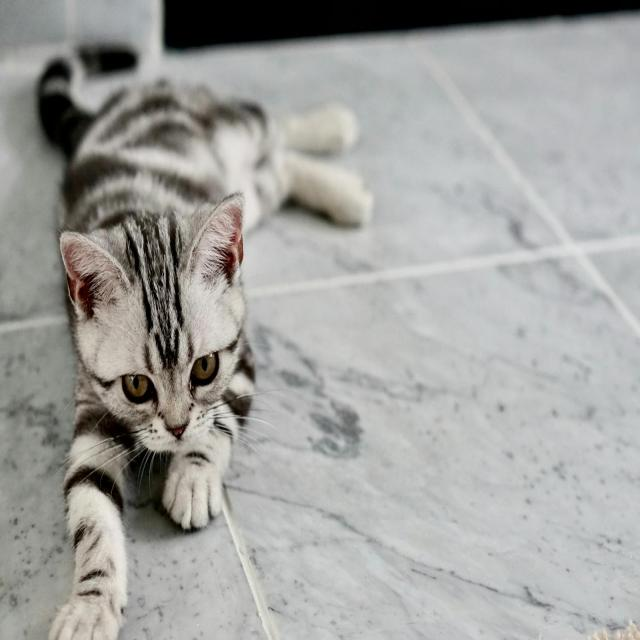Cat: (34, 44, 373, 638)
